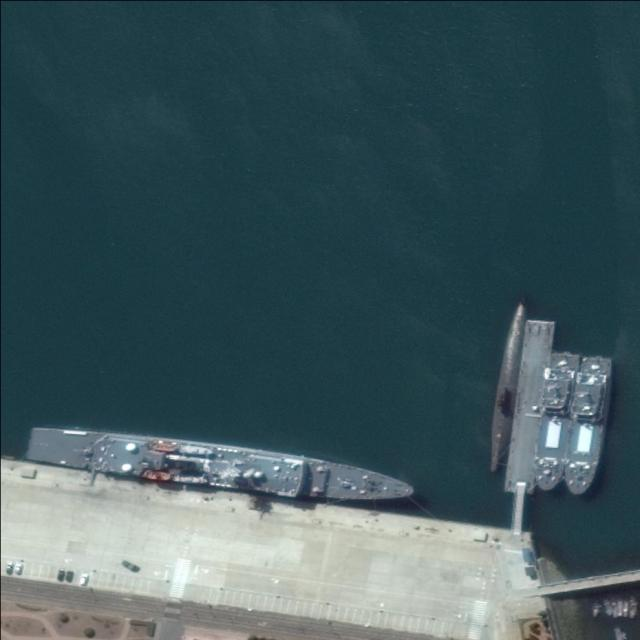Auxiliary Ships: (28, 418, 416, 515)
Landing: (565, 353, 613, 496), (530, 350, 578, 491)
Submarine: (483, 296, 531, 475)
